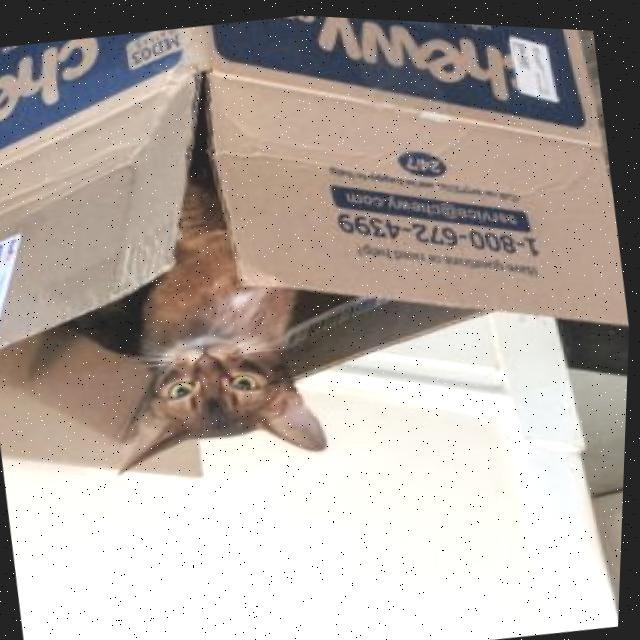Abyssinian: (57, 120, 346, 487)
